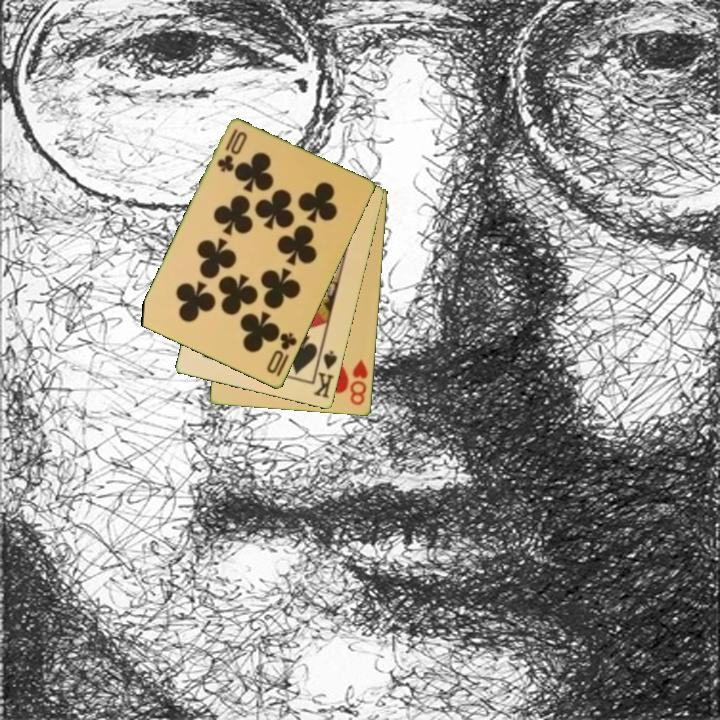10c: (213, 125, 250, 176), (263, 329, 300, 377)
8h: (347, 356, 371, 408)
Ks: (310, 344, 340, 401)
